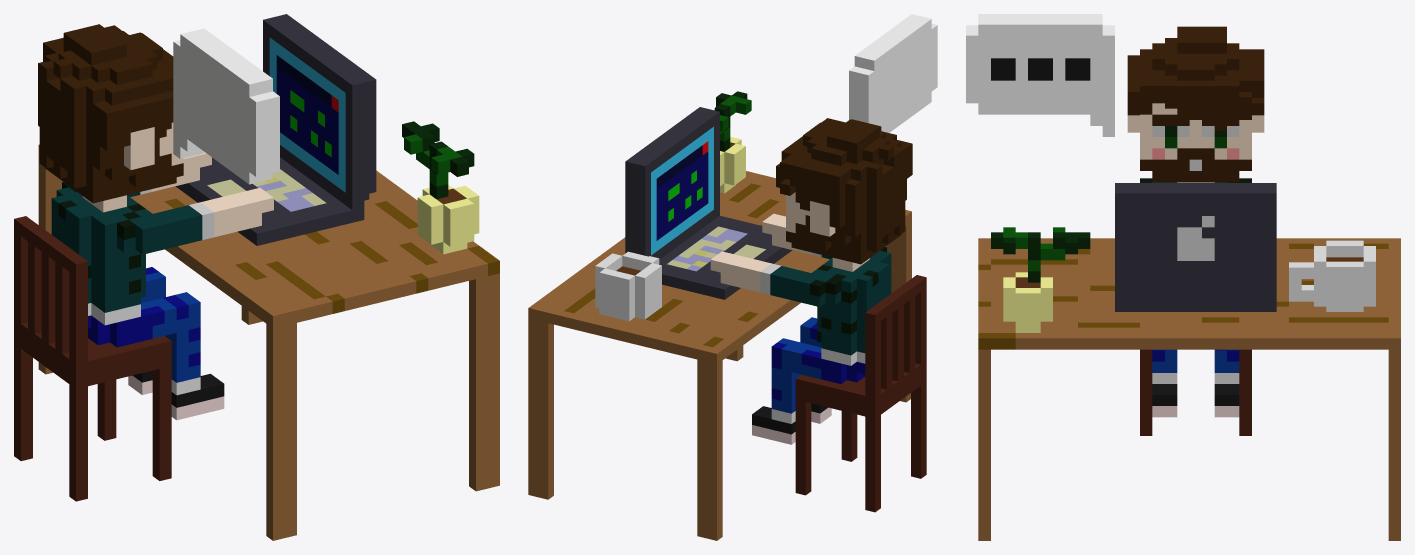
Rendered from me-voxel.gltf.
The picture shows the model from 3 angles, left to right: view 1: azimuth 30°, elevation 25°; view 2: azimuth 150°, elevation 25°; view 3: azimuth 270°, elevation 25°; orthographic projection. The views are drawn at different scales.
Parts seen in each view (by area): view 1: Untitled.001; view 2: Untitled.001; view 3: Untitled.001.
Boxes of the visible parts, bbox=[...] form: Untitled.001: bbox=[14, 14, 499, 540]; Untitled.001: bbox=[528, 14, 937, 540]; Untitled.001: bbox=[966, 14, 1400, 540].
Size of the model in its own units: 2.8 by 3.7 by 3.5.
Materials: 1 (1 with a texture image).
